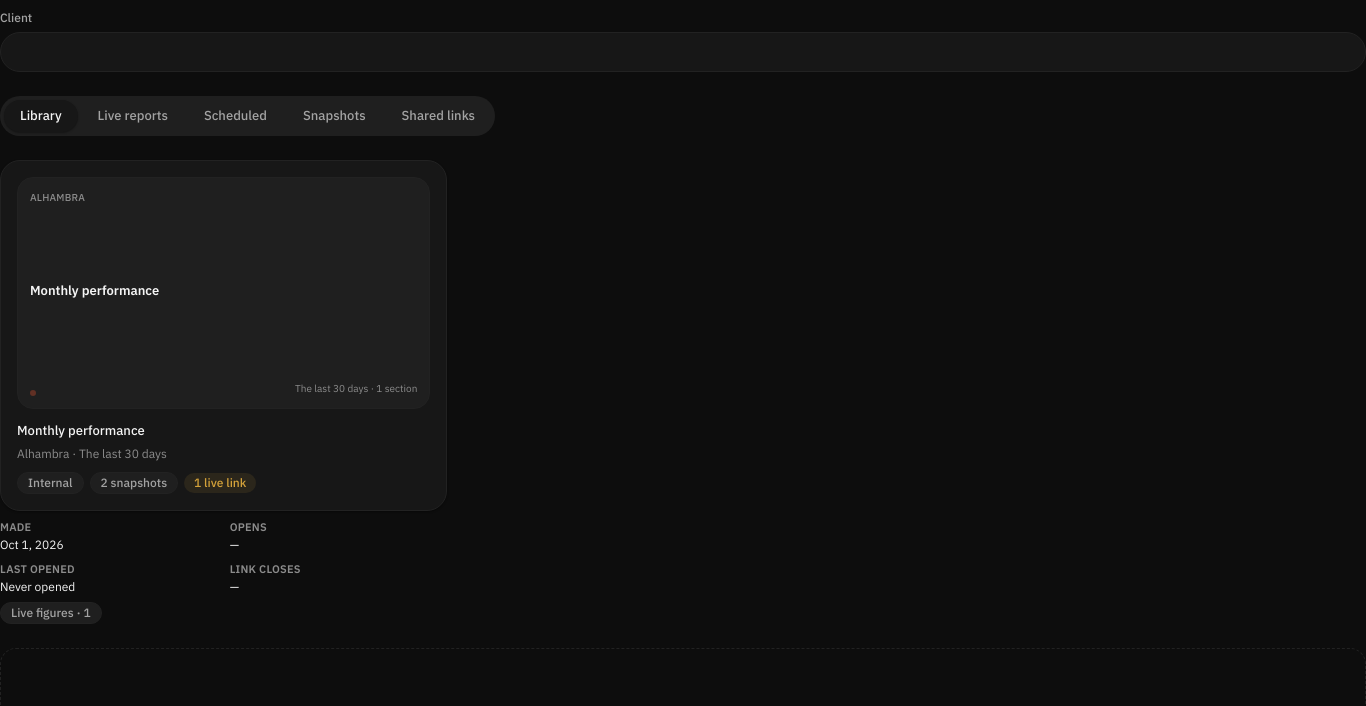
editing one in the full editor › does not offer a metric the shape will not accept
The width and height of the screenshot is (1366, 706).
Click the button "Monthly performance".
click(224, 335)  # box left=0, top=160, right=447, bottom=511
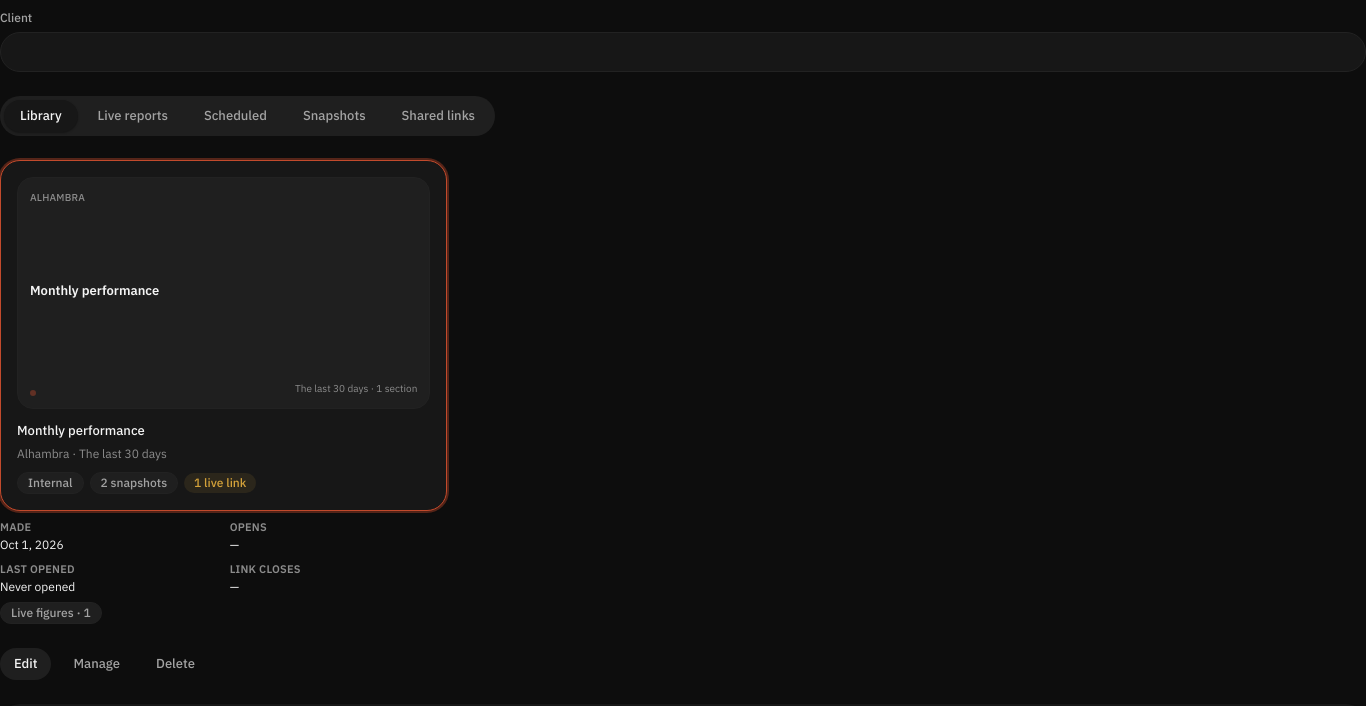
Click the button "Edit".
click(26, 664)  # box left=0, top=648, right=52, bottom=680
(page scrolled)
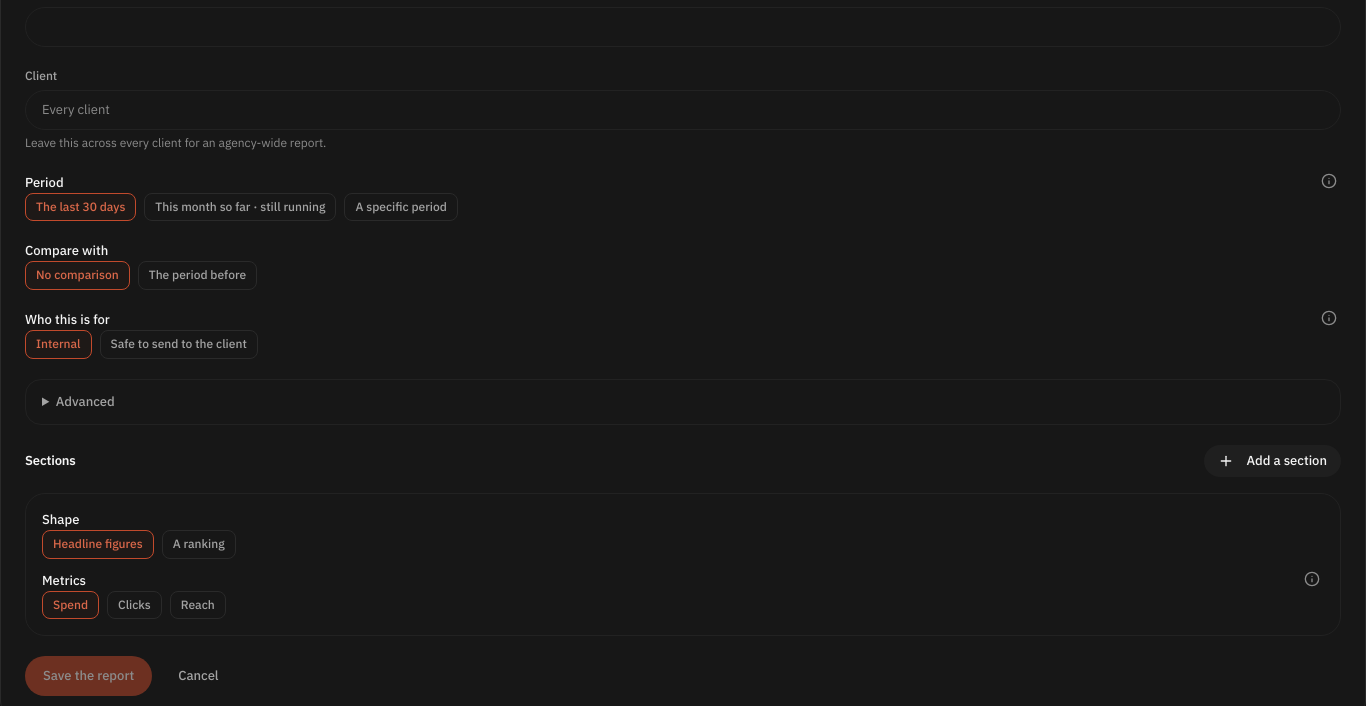
Now the button "Reach" is shown, box left=170, top=591, right=226, bottom=619
Click the button "A ranking".
click(199, 544)  # box left=162, top=530, right=236, bottom=559
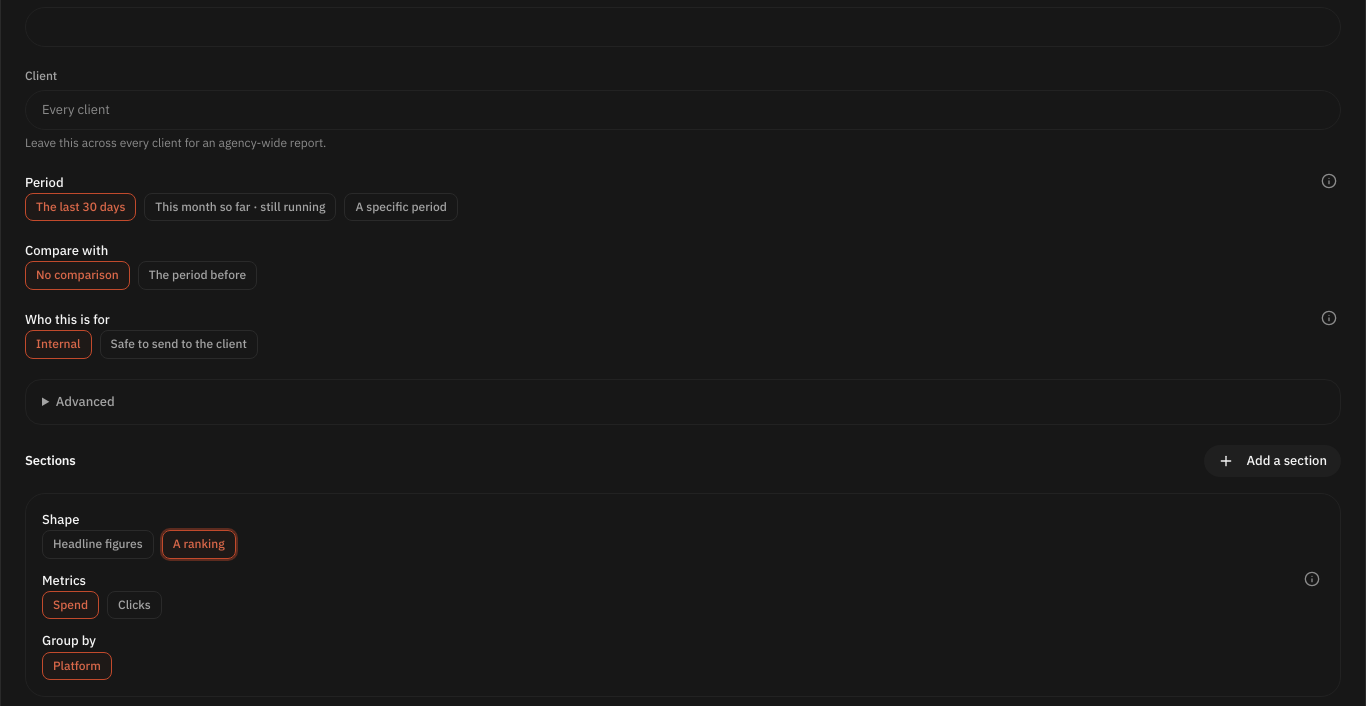
Now the button "Spend" is shown, box left=42, top=591, right=99, bottom=619
Now the button "Reach" is gone
